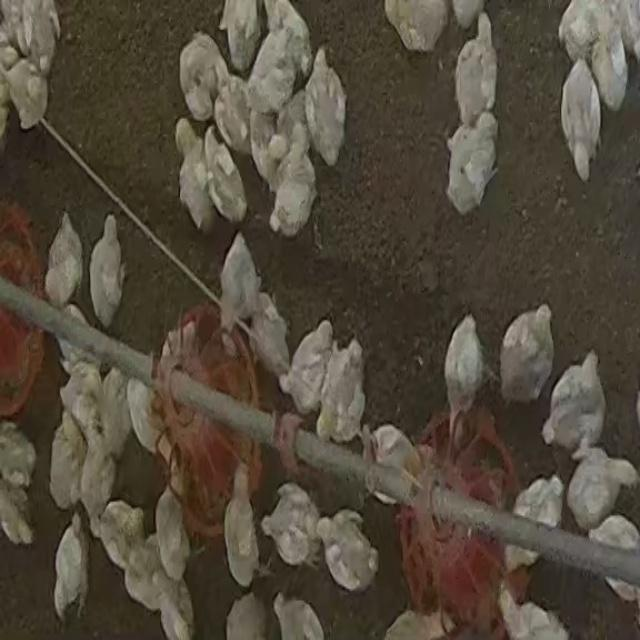chicken: (245, 17, 307, 120), (562, 446, 636, 532), (497, 307, 560, 402), (507, 475, 565, 577), (128, 545, 192, 636), (442, 112, 500, 210), (260, 481, 322, 571), (268, 128, 318, 239), (547, 351, 601, 452), (318, 336, 368, 445), (280, 320, 335, 418), (315, 508, 379, 592), (304, 48, 348, 169), (558, 58, 602, 179), (453, 13, 498, 130), (217, 228, 262, 342), (178, 31, 230, 126), (202, 126, 250, 228), (222, 467, 262, 589), (366, 423, 425, 502), (244, 294, 292, 390), (586, 513, 638, 601), (176, 119, 216, 233), (87, 211, 125, 329), (96, 499, 150, 578), (558, 2, 616, 73), (447, 315, 481, 434), (79, 424, 118, 527), (54, 513, 90, 624), (154, 483, 192, 586), (2, 53, 50, 132), (48, 413, 85, 515), (45, 211, 83, 309), (498, 584, 566, 638), (213, 77, 255, 164), (383, 2, 451, 54), (261, 0, 313, 68), (218, 0, 264, 73), (95, 362, 129, 458), (21, 2, 62, 79), (126, 376, 160, 458), (0, 422, 38, 494), (592, 34, 626, 114), (0, 476, 35, 548), (274, 592, 325, 638), (224, 594, 268, 640)
